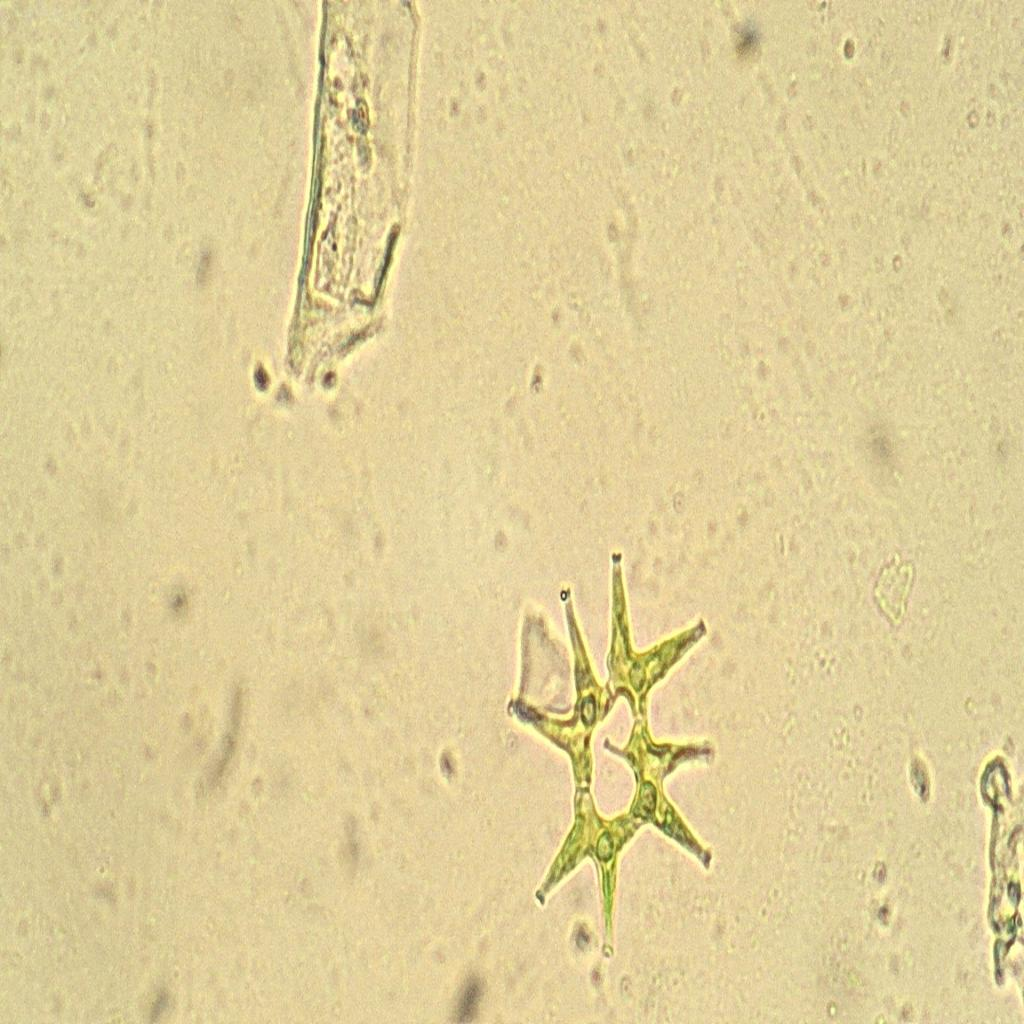Pediastrum_CF: (498, 507, 736, 975)
